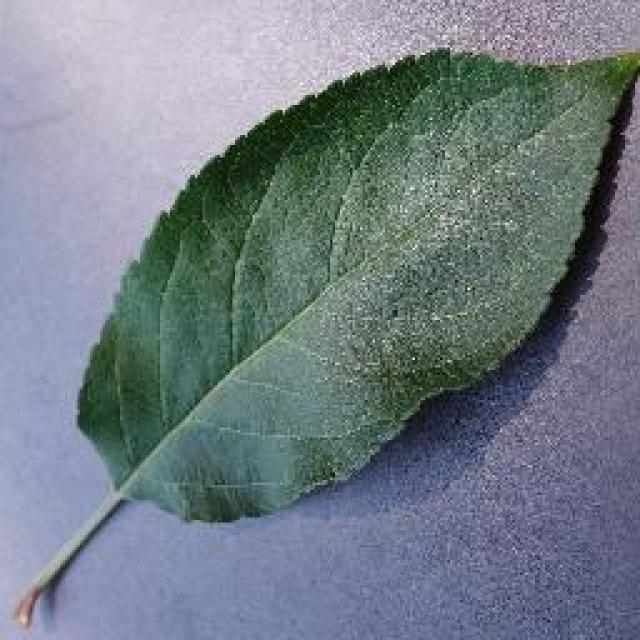apple healthy: (10, 38, 638, 630)
